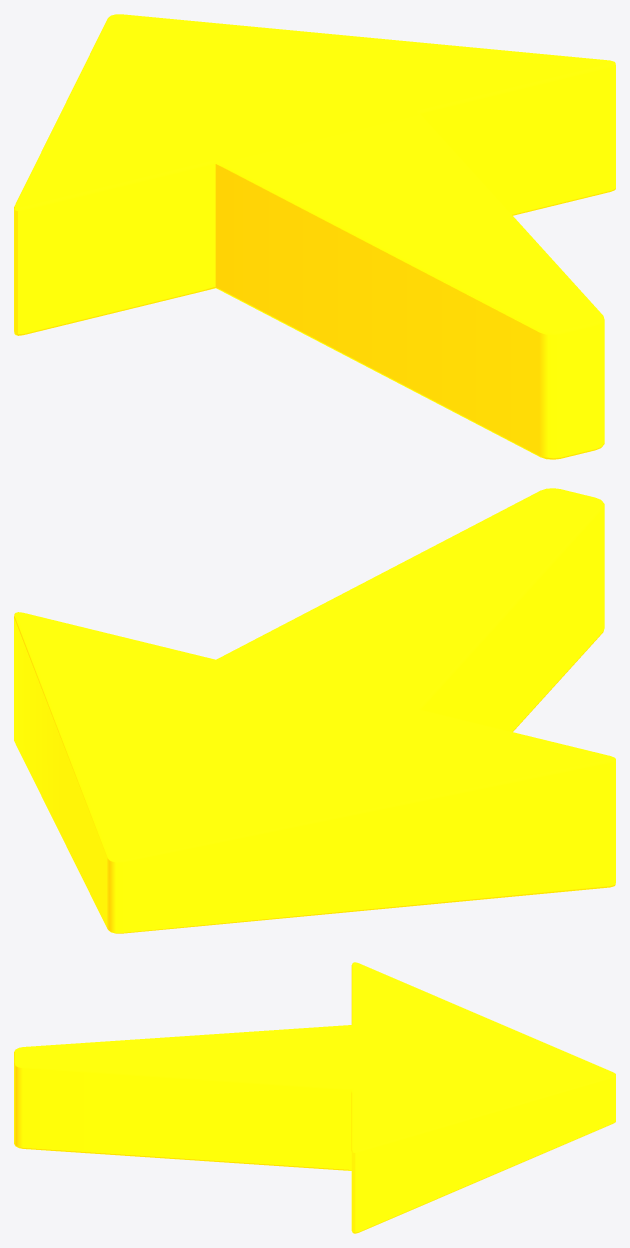
Rendered from arrow.glb.
3 renders of one model, top to bottom at view 1: azimuth 30°, elevation 25°; view 2: azimuth 150°, elevation 25°; view 3: azimuth 270°, elevation 25°, orthographic. The views are drawn at different scales.
Visible parts, largest first — view 1: arrow 1; view 2: arrow 1; view 3: arrow 1.
Boxes of the visible parts, x1,y1,x2,y2 form: arrow 1: (14,14,615,459); arrow 1: (14,488,615,933); arrow 1: (14,962,615,1233).
Bounding box in the file's own units: 0.5351 × 0.109 × 0.7172.
